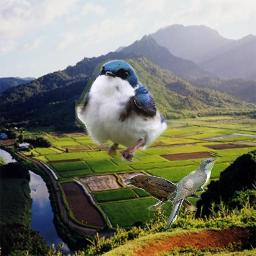Crow: (122, 173, 202, 211)
Cuckoo: (165, 158, 220, 229)
Swallow: (75, 59, 193, 162)
